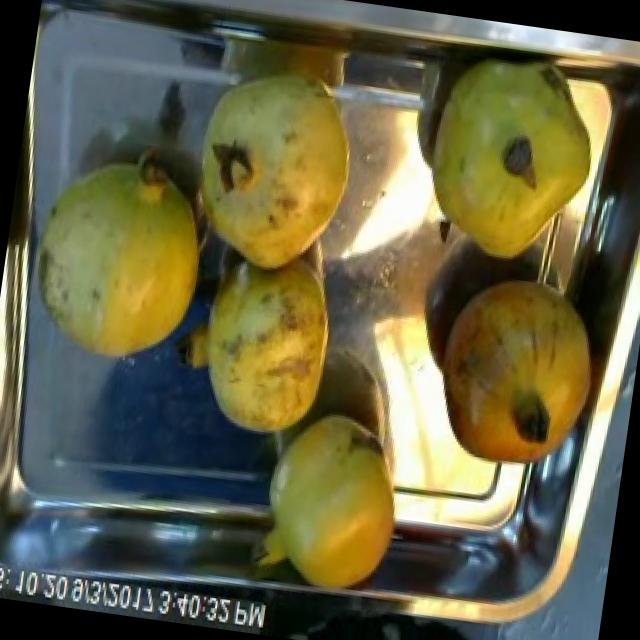fruit: (13, 124, 231, 388), (403, 40, 618, 288), (172, 46, 378, 301), (414, 250, 618, 490), (177, 238, 357, 454), (247, 394, 424, 604)
